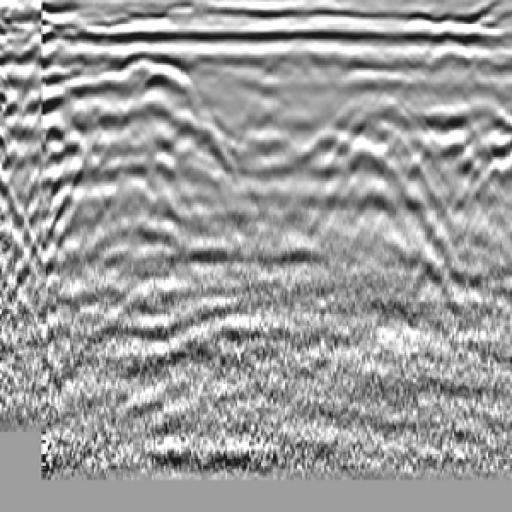metalic: (90, 44, 200, 127)
